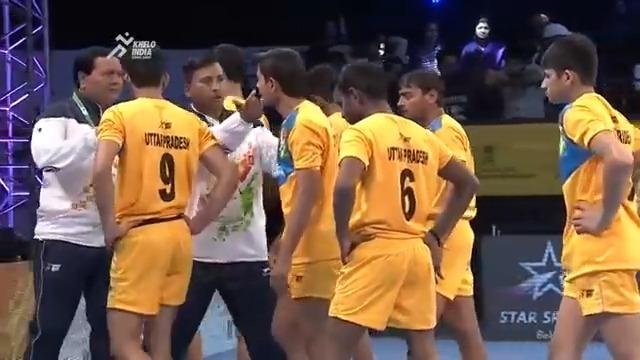Player: (91, 39, 239, 358), (325, 61, 479, 358), (171, 54, 286, 359), (539, 31, 639, 359), (252, 46, 357, 358)
referee: (27, 45, 128, 358)
